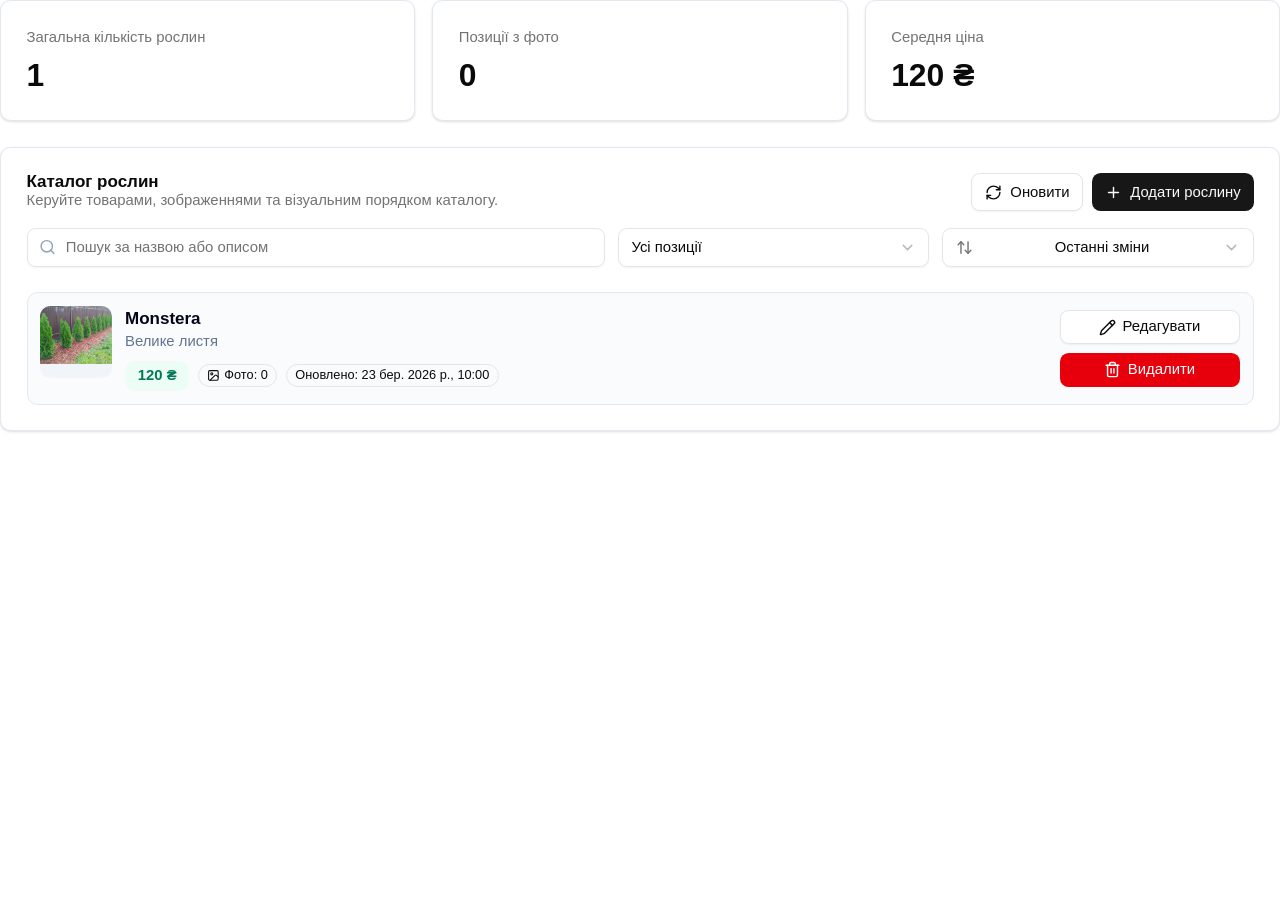
Test: PlantsAdminManager › вимагає підтвердження перед видаленням і після confirm видаляє позицію
The image size is (1280, 900).
Click the button "Видалити" at (1150, 370), box [1060,352,1240,386]
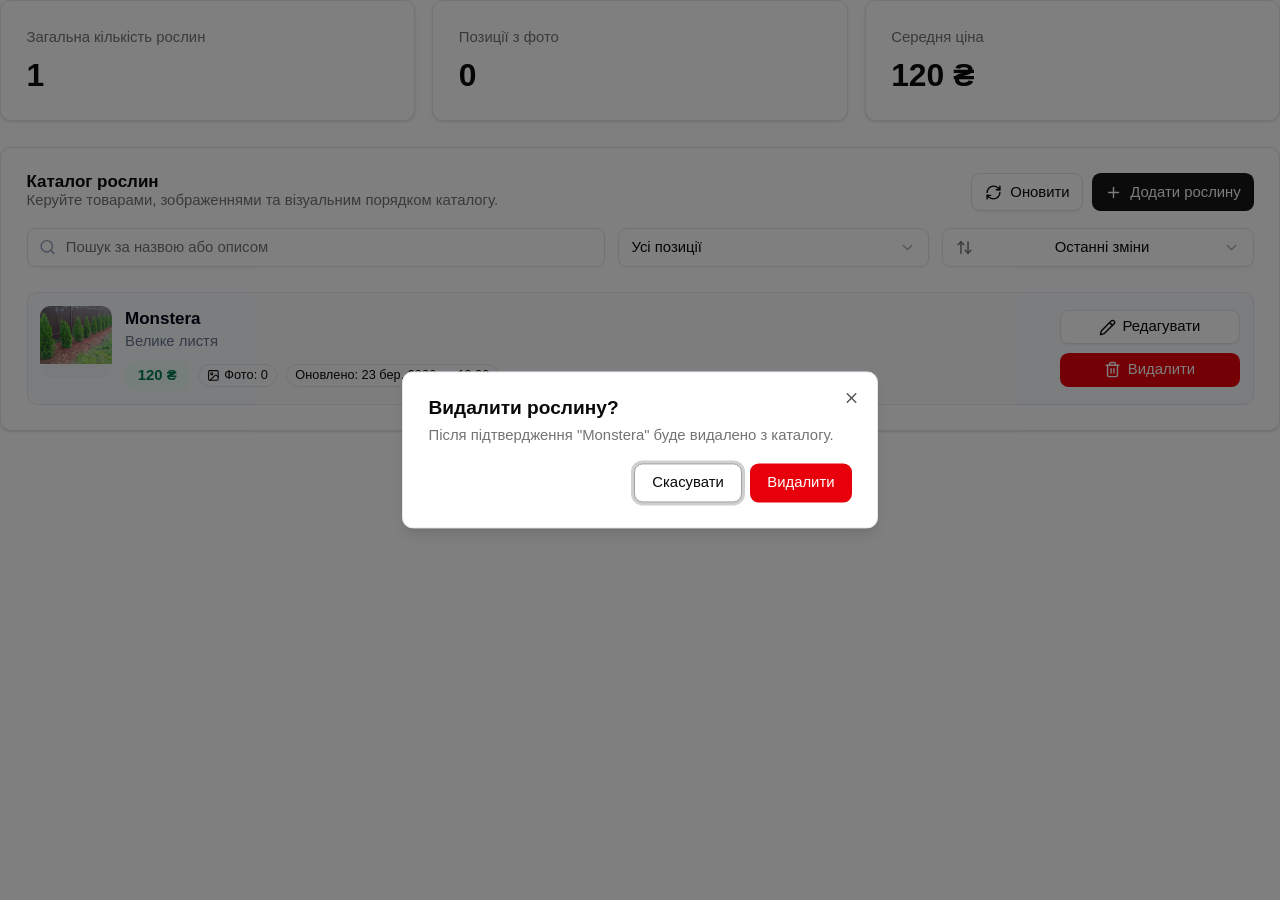
Now the text "Після підтвердження \"Monstera\" буде видалено з каталогу." is shown, box [428,426,852,447]
Click the button "Видалити" at (801, 483), box [750,464,852,502]
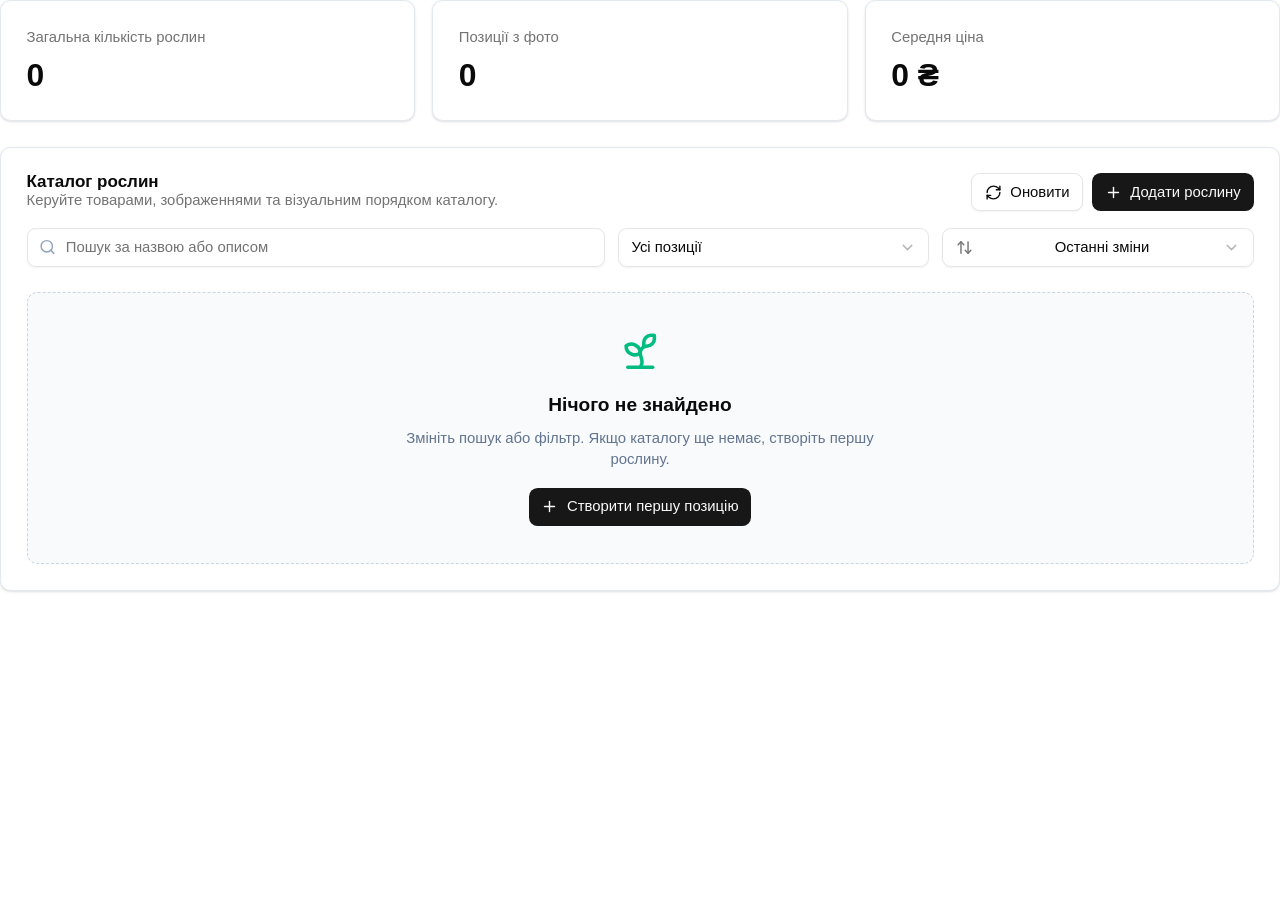
Now the heading "Monstera" is gone
